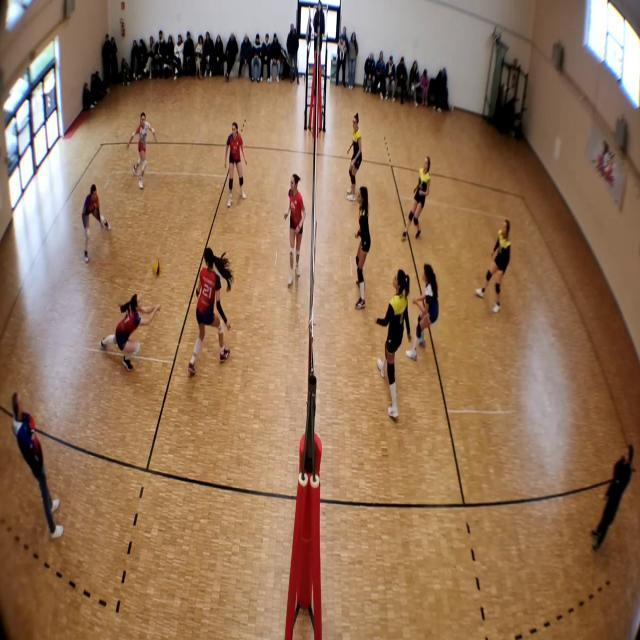volleyball: (152, 256, 160, 278)
